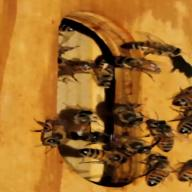Bee: (140, 119, 180, 154), (116, 38, 180, 58), (71, 141, 123, 165), (142, 159, 180, 189)
